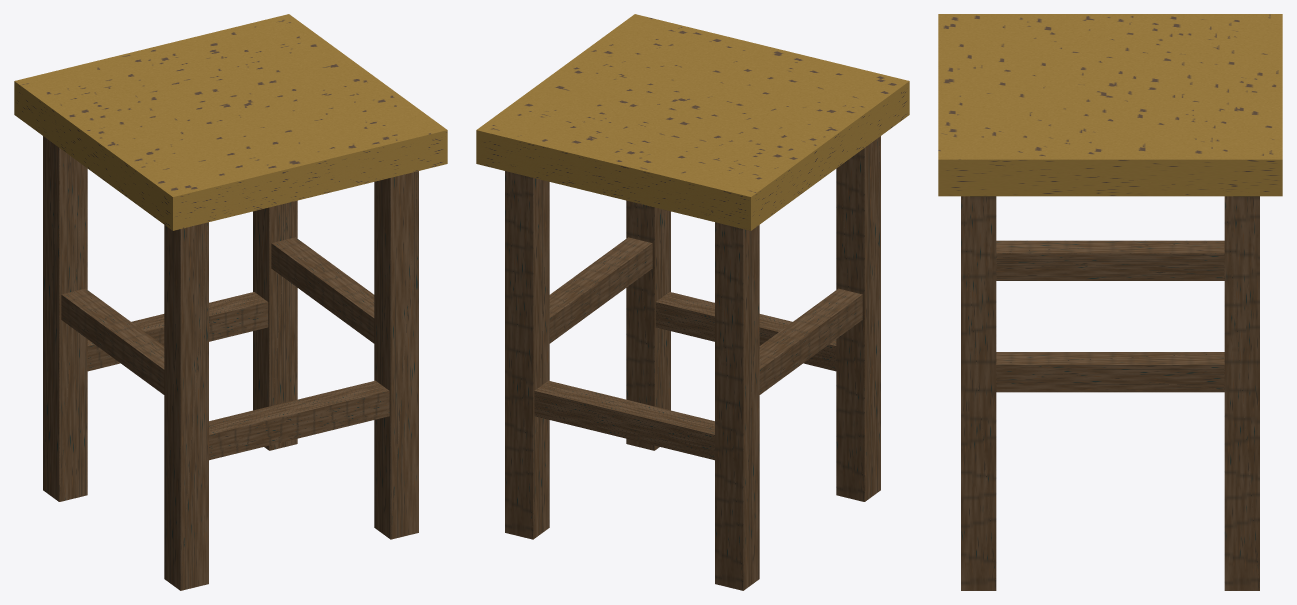
File: CIS_KitchenStool.glb
3 renders of one model, left to right at view 1: azimuth 30°, elevation 25°; view 2: azimuth 150°, elevation 25°; view 3: azimuth 270°, elevation 25°, orthographic. The views are drawn at different scales.
Parts seen in each view (by area): view 1: CIS_KitchenStool; view 2: CIS_KitchenStool; view 3: CIS_KitchenStool.
Part boxes in pixels (x1=…): CIS_KitchenStool: x1=14, y1=14, x2=447, y2=590; CIS_KitchenStool: x1=476, y1=14, x2=909, y2=590; CIS_KitchenStool: x1=938, y1=14, x2=1282, y2=590.
Bounding box in the file's own units: 0.34 × 0.48 × 0.34.
2 materials, 2 textured.
